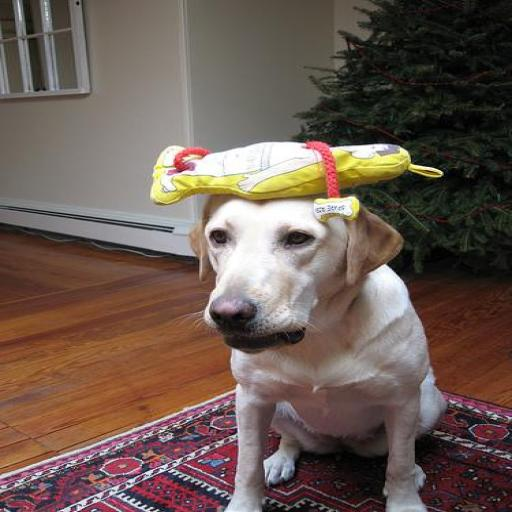dog_face: (181, 201, 407, 345)
